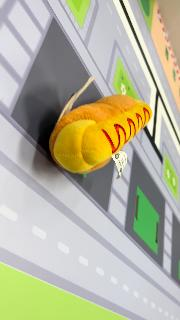hotdog: (48, 92, 154, 176)
